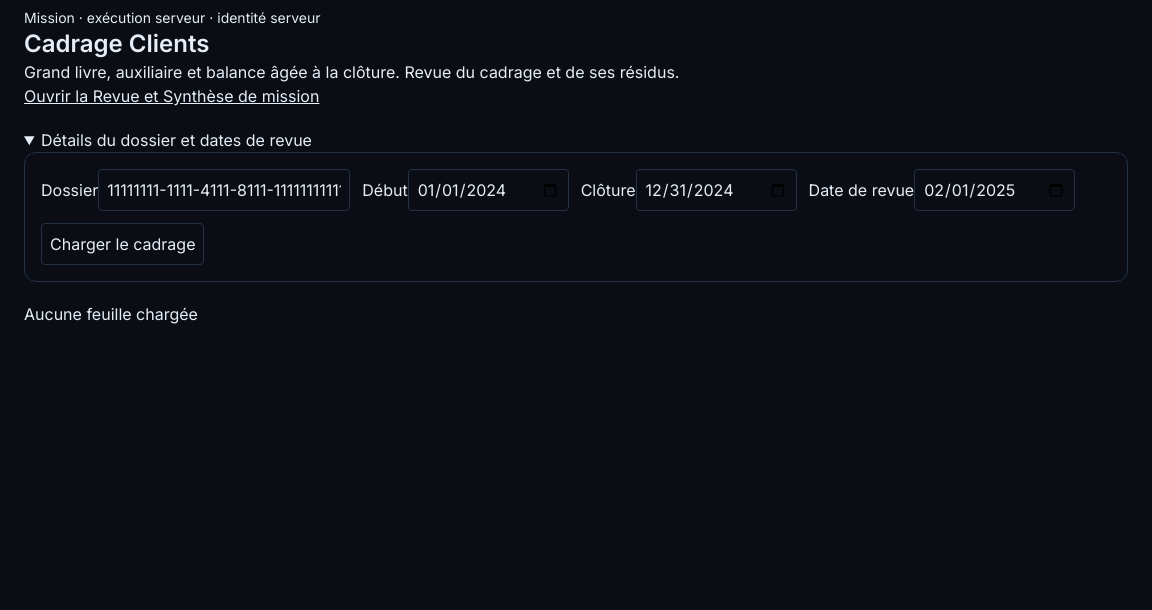
Test: état de sauvegarde de la feuille Clients › après une sauvegarde accusée, la feuille est propre jusqu'à la prochaine saisie
Click the button "Charger le cadrage" at (123, 244), box [41, 223, 204, 265]
(page scrolled)
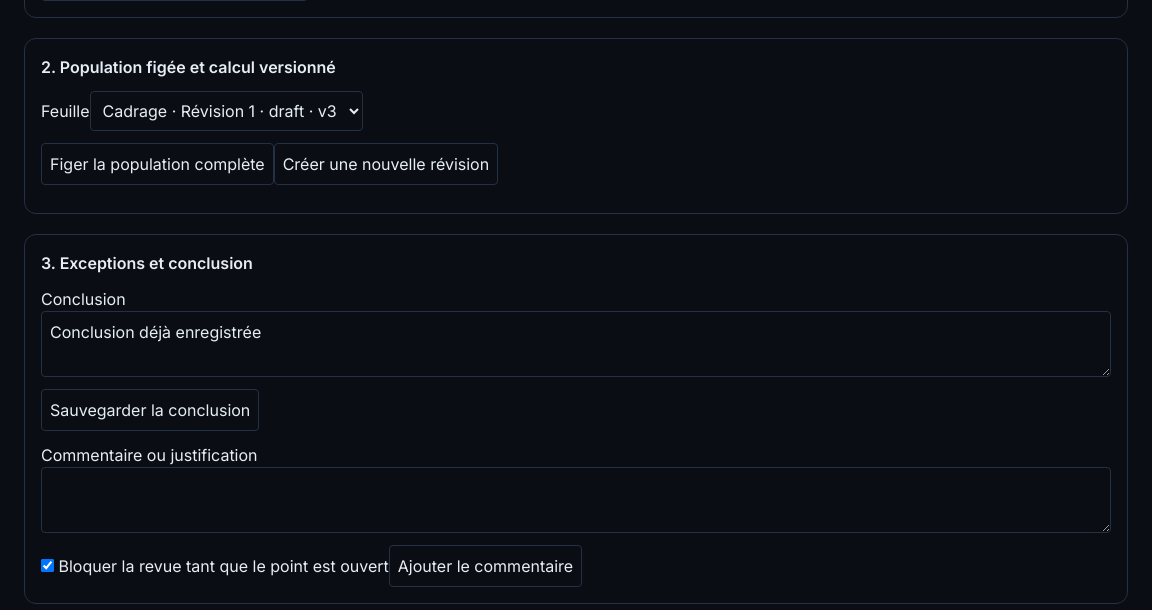
Replace the text in the text box labelled "Conclusion" with "Nouvelle conclusion" at (576, 344), box [41, 311, 1111, 377]
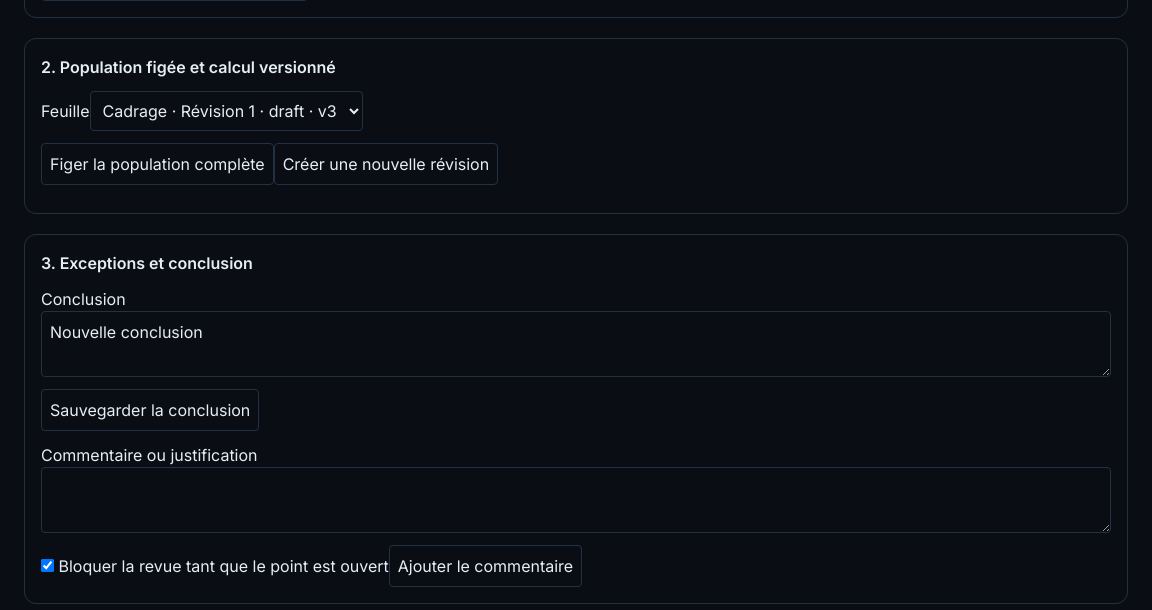
Click the button "Sauvegarder la conclusion" at (150, 410), box [41, 389, 259, 431]
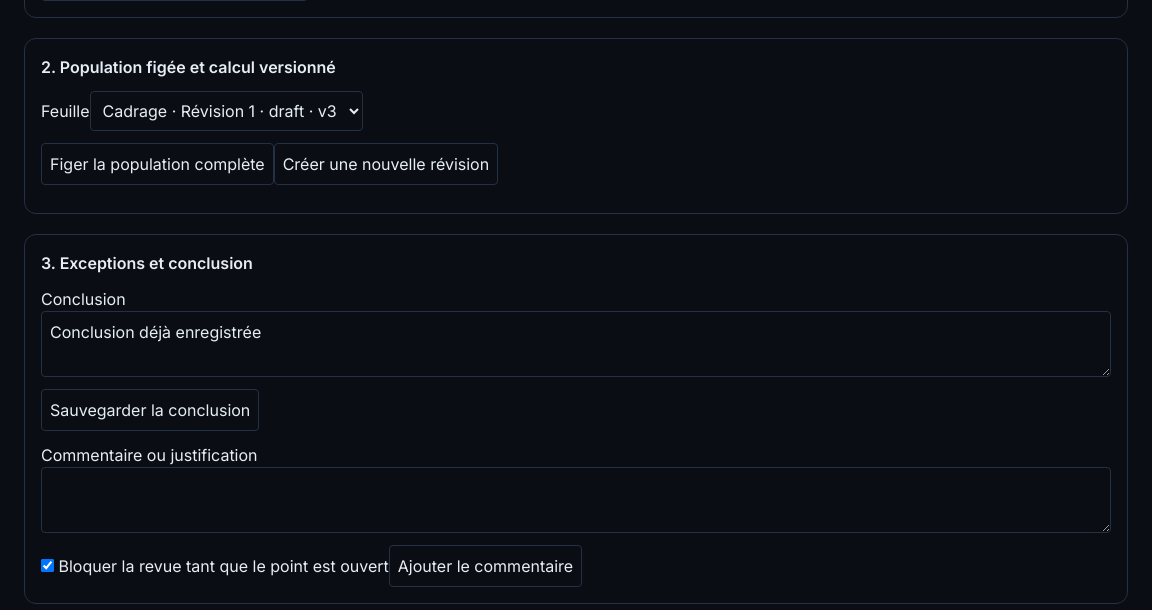
Replace the text in the text box labelled "Conclusion" with "Nouvelle conclusion, encore" at (576, 344), box [41, 311, 1111, 377]
(page scrolled)
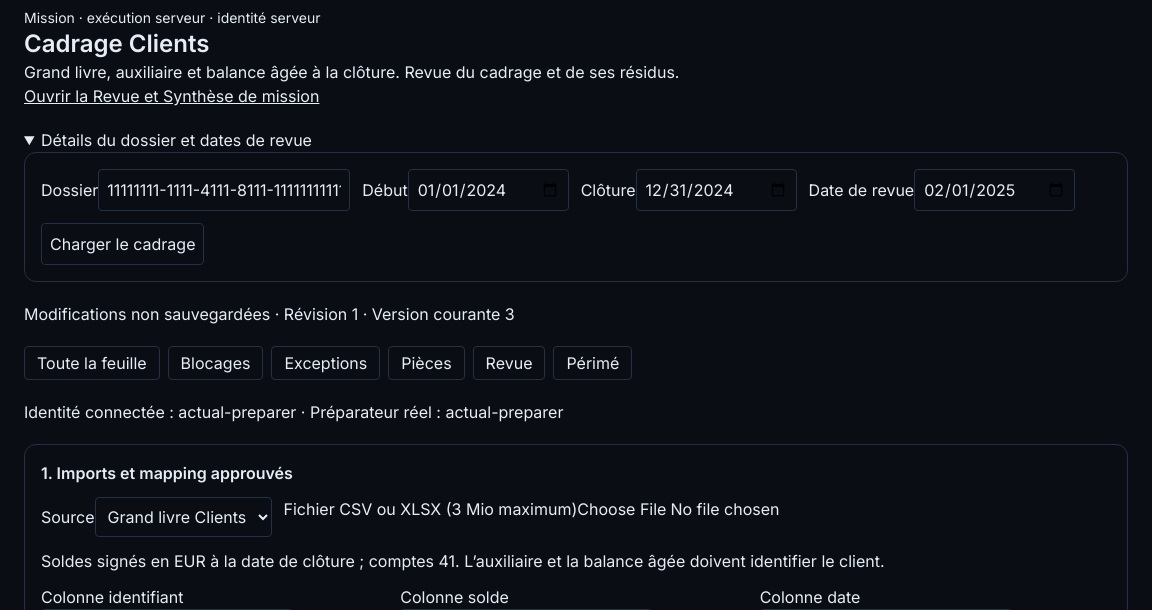
Check: the message shows "Modifications non sauvegardées", box [24, 304, 270, 324]
